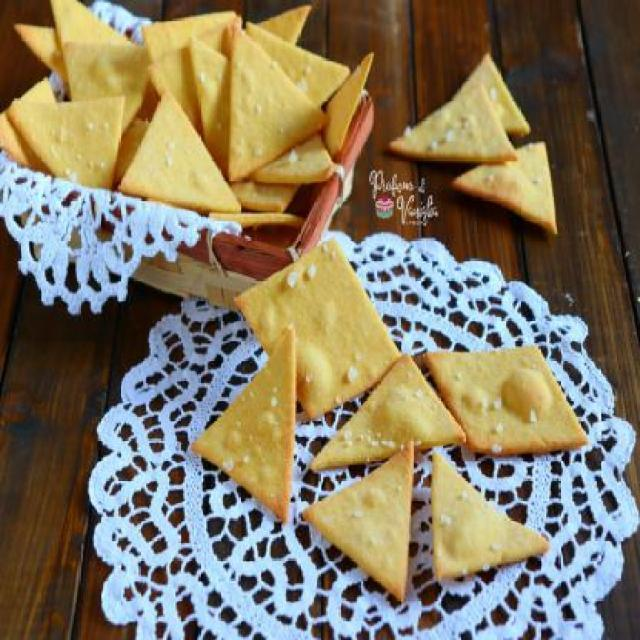Cracker packaged: (244, 245, 410, 420), (414, 452, 562, 614), (427, 328, 581, 470), (115, 89, 238, 222), (216, 29, 322, 166)
